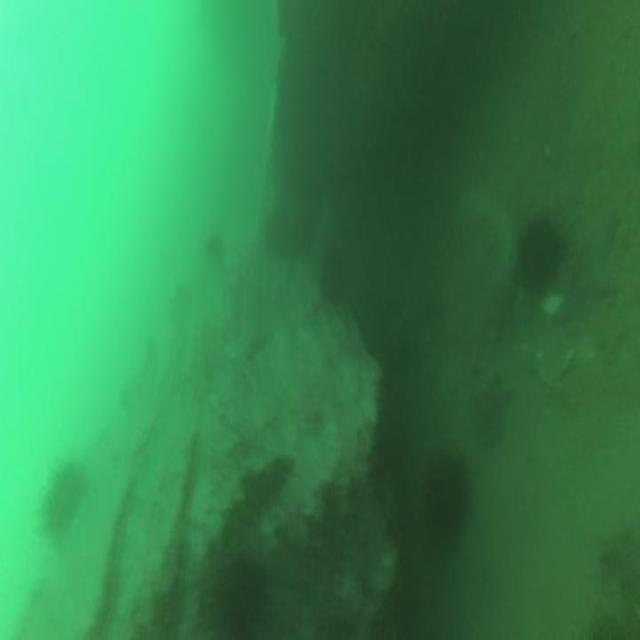echinus: (409, 434, 476, 562), (197, 540, 271, 640), (507, 193, 567, 310), (31, 455, 93, 545)
starfish: (561, 204, 620, 325), (468, 365, 514, 460)
